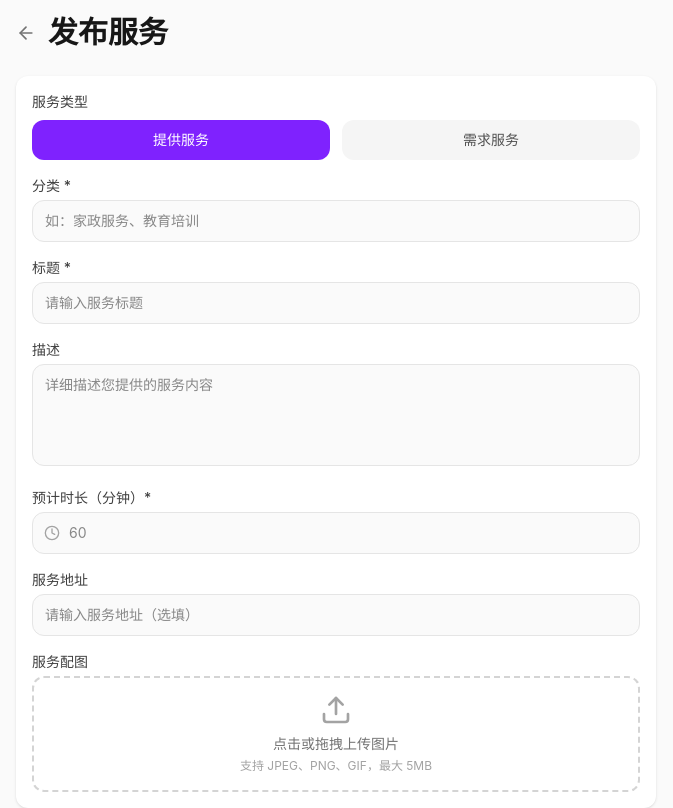
Test: TimeBank/CreateService 发布服务表单 › 标题少于2字符校验失败显示"标题至少需要2个字符"
Type "A" into the field with placeholder "请输入服务标题" at (336, 302), box [32,282,640,324]
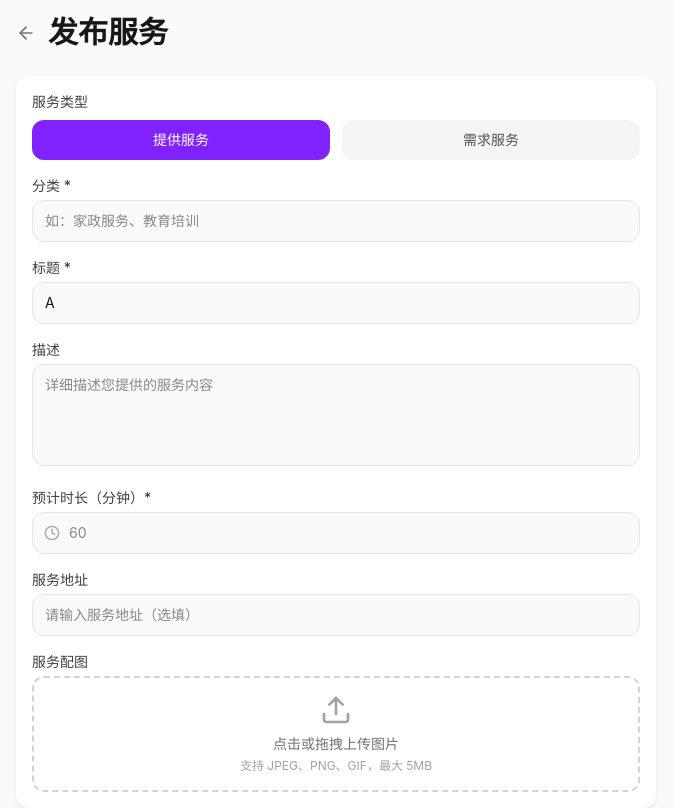
Leave the field with placeholder "请输入服务标题", box [32,282,640,324]
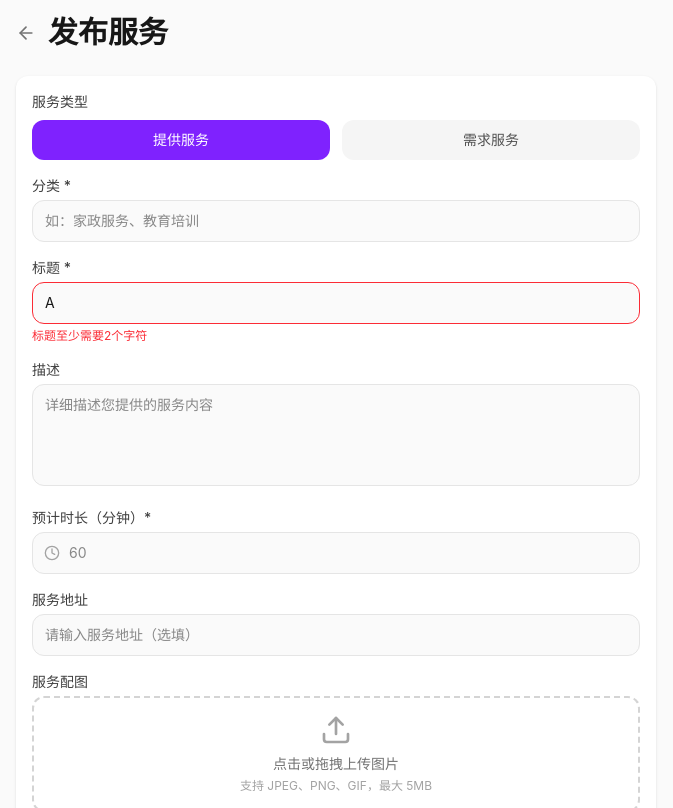
Check: the text "标题至少需要2个字符" is shown, box [32,328,147,342]
